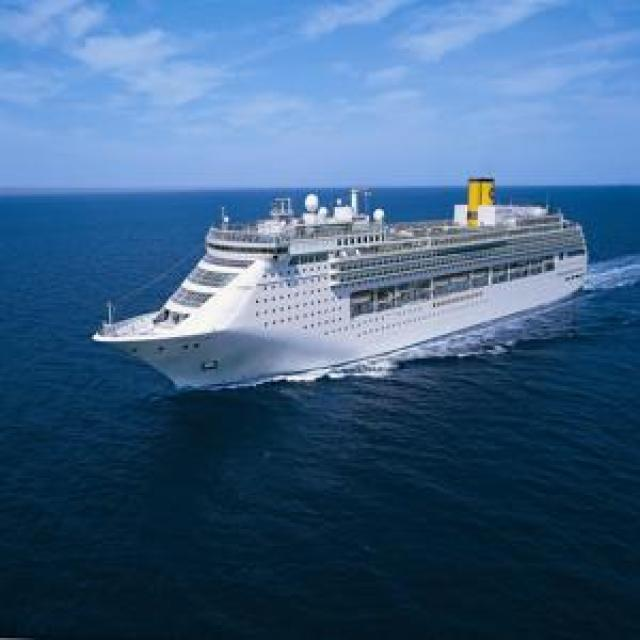passenger ship: (100, 173, 593, 384)
